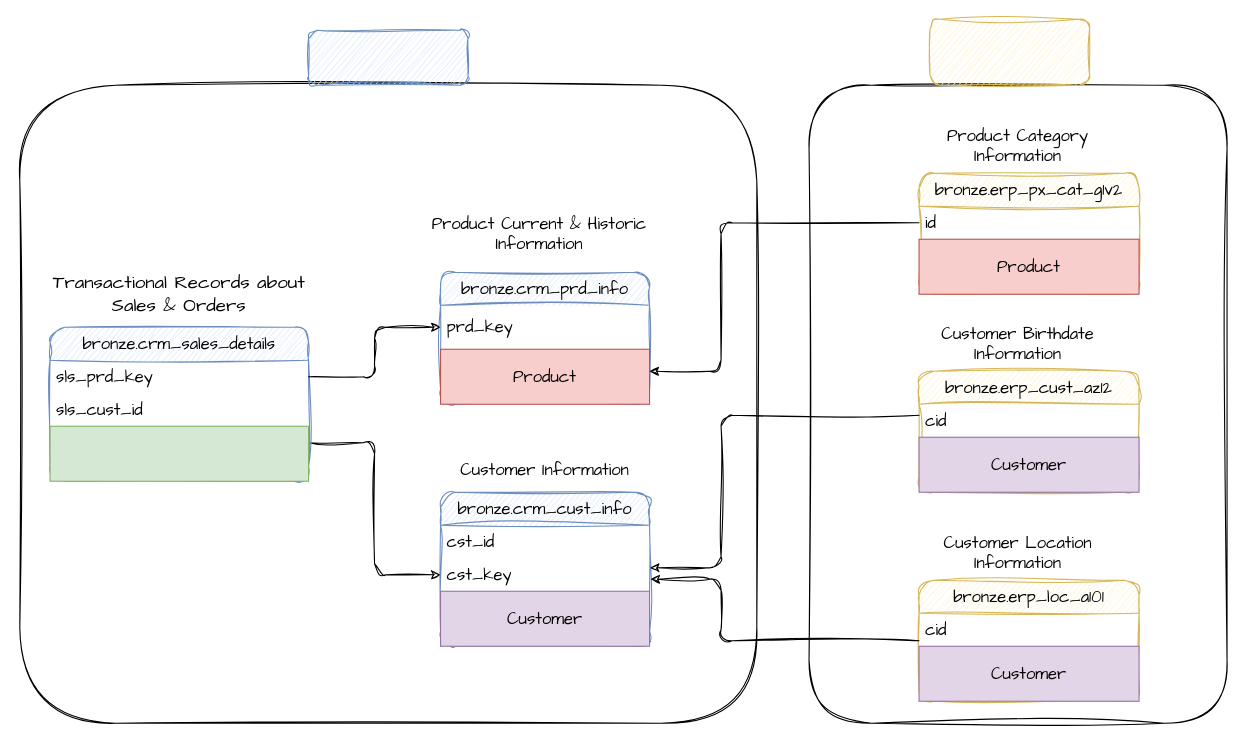
The diagram is 1246 pixels wide and 743 high, and some of its shapes have lost their labels. The shapes that lost their labels are listed below. From the top down, each one's centre as x and y in pixels, then its label:
At (387,57): "CRM Source".
At (1009,51): "ERP Source".
At (179,453): "Sales".
